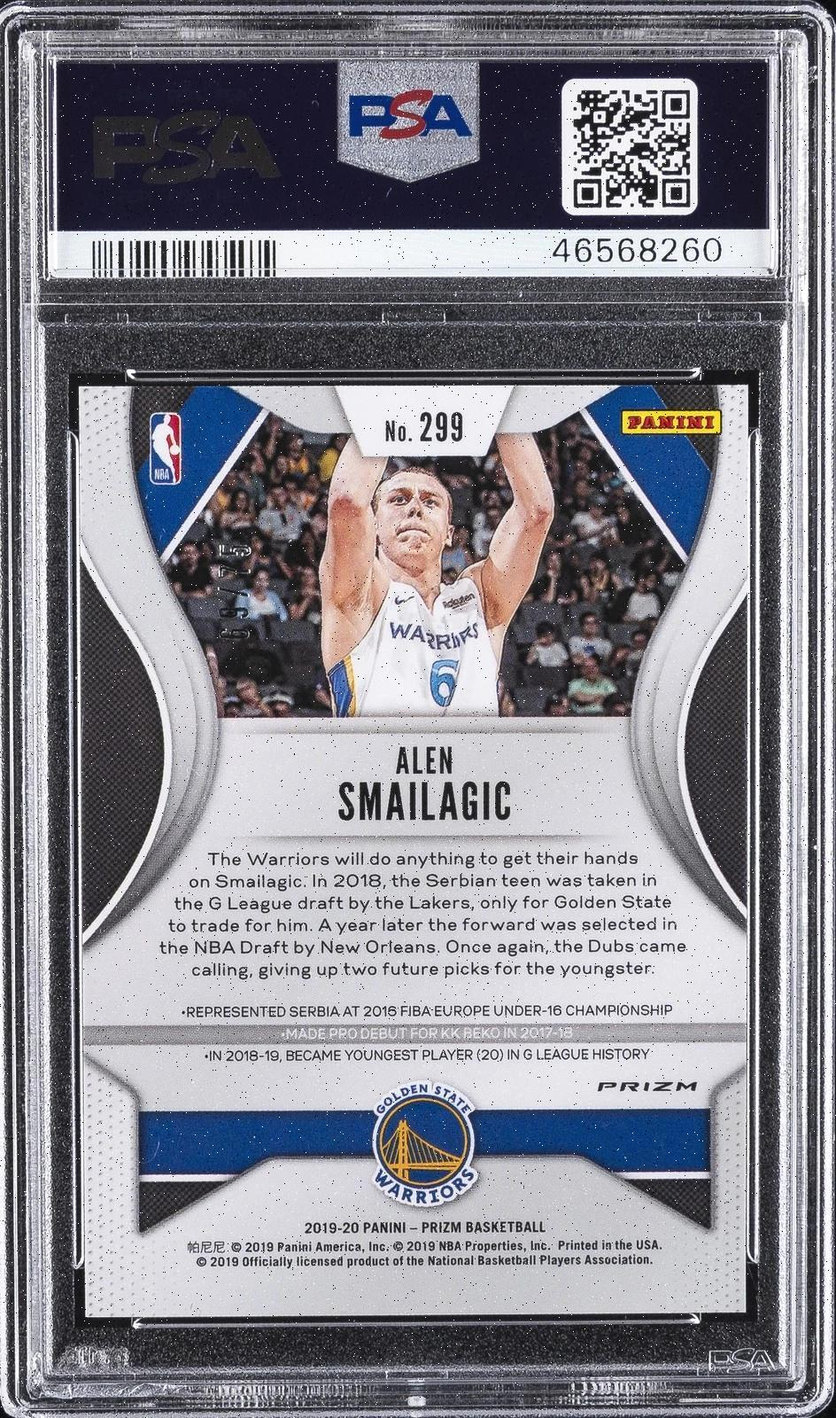card-2UtV: (78, 383, 750, 1318)
